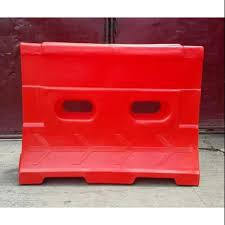barrier: (10, 37, 203, 187)
